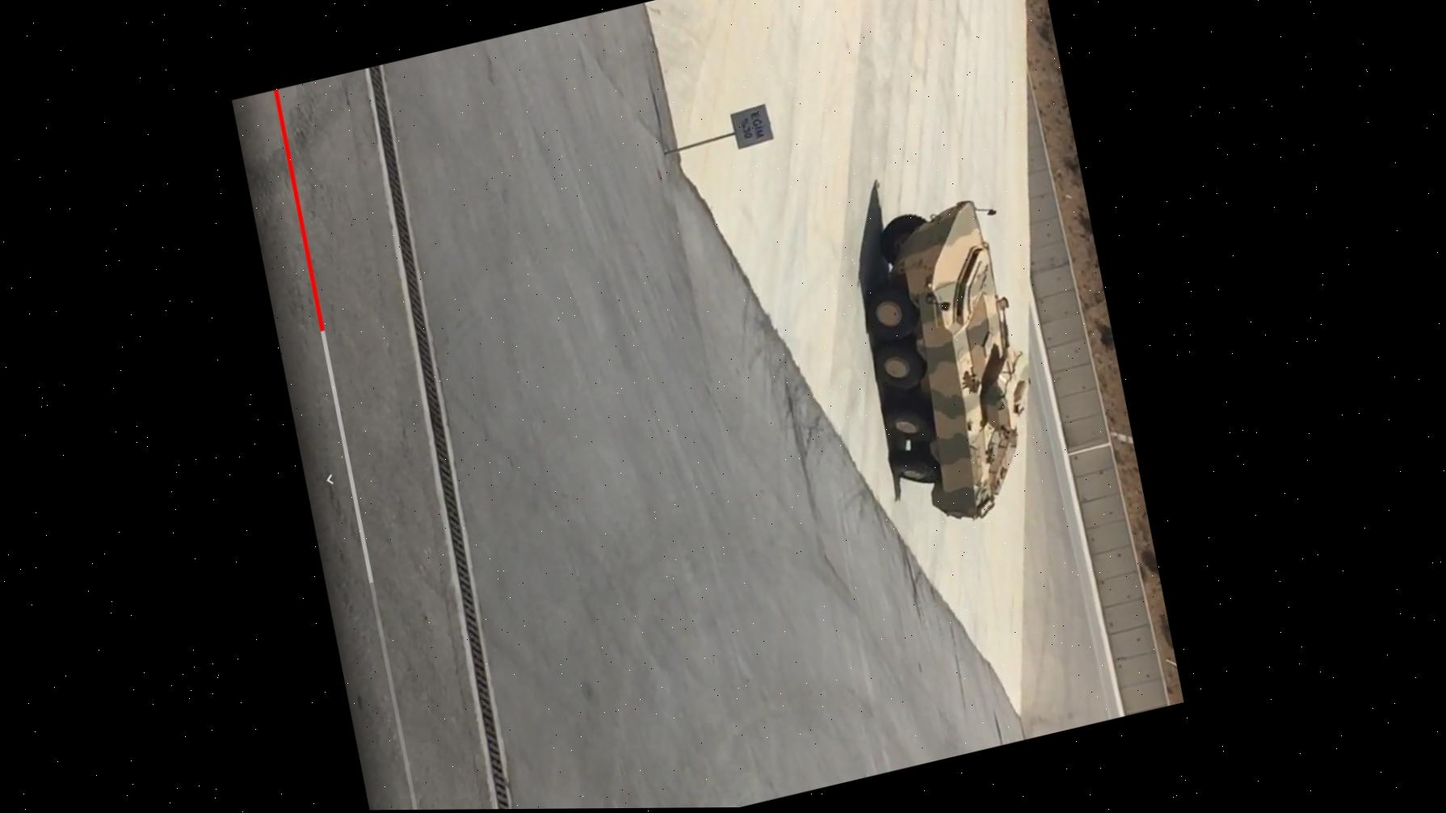armored_car: (831, 188, 1067, 539)
